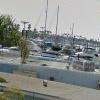Boat: (57, 38, 100, 76)
